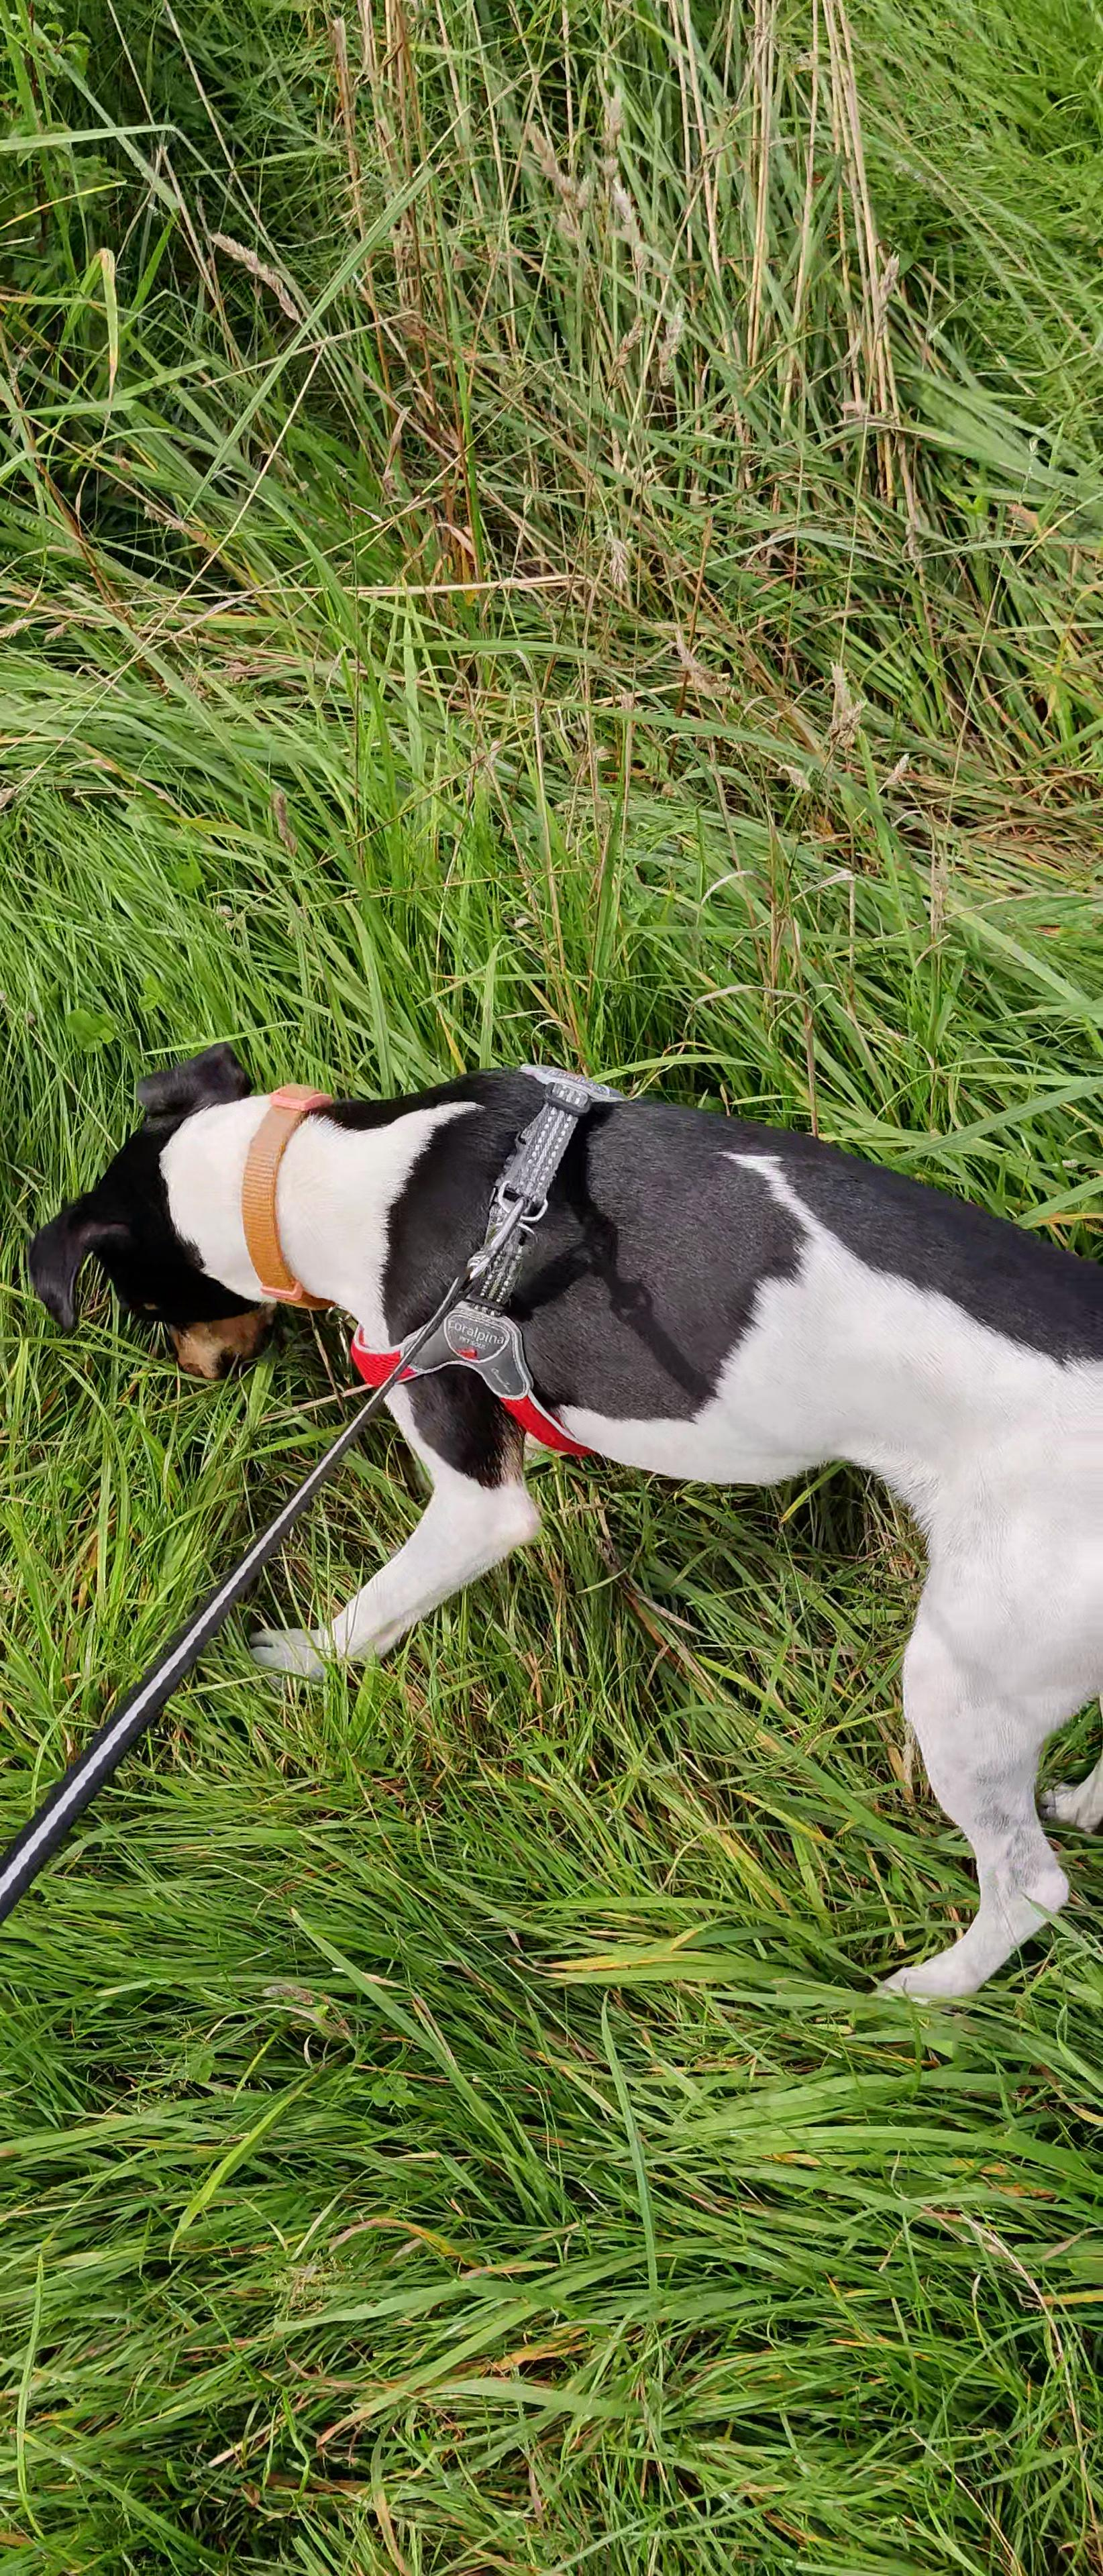Dog: (16, 1025, 1103, 2016)
